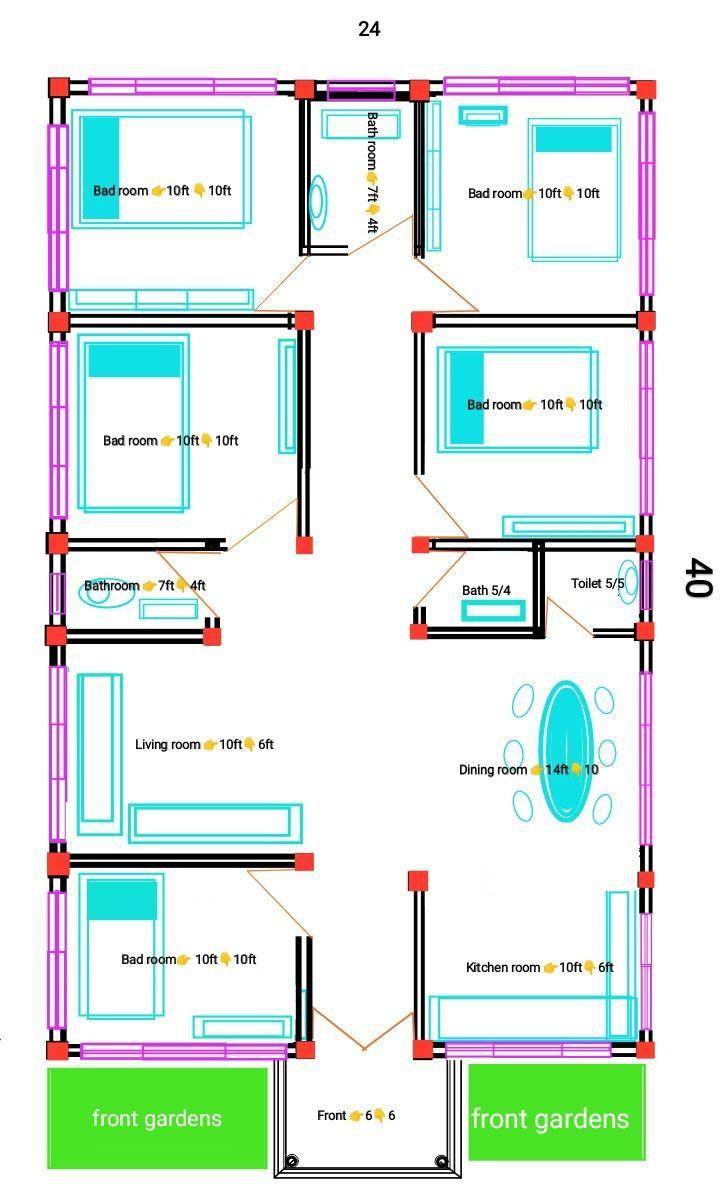Blueprint: (38, 67, 670, 1073)
wall: (65, 849, 300, 872), (427, 309, 644, 333), (65, 309, 299, 330), (292, 326, 315, 539), (428, 533, 639, 553), (62, 534, 229, 557), (409, 883, 431, 1050), (61, 625, 208, 647), (422, 621, 551, 644), (295, 97, 313, 258), (411, 95, 428, 263), (411, 327, 429, 478), (292, 932, 315, 1045), (530, 532, 549, 644), (587, 623, 643, 642), (635, 635, 658, 678), (637, 839, 657, 878), (634, 883, 656, 918), (608, 1038, 641, 1061), (295, 244, 352, 257), (426, 1038, 450, 1062), (45, 1025, 70, 1048), (635, 1026, 657, 1048), (295, 259, 295, 260)
